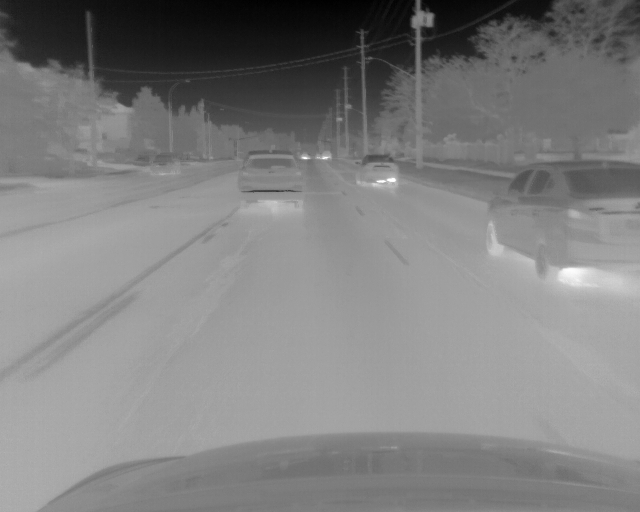car: (481, 161, 640, 282), (238, 150, 304, 210), (354, 154, 399, 186), (151, 152, 181, 175)
